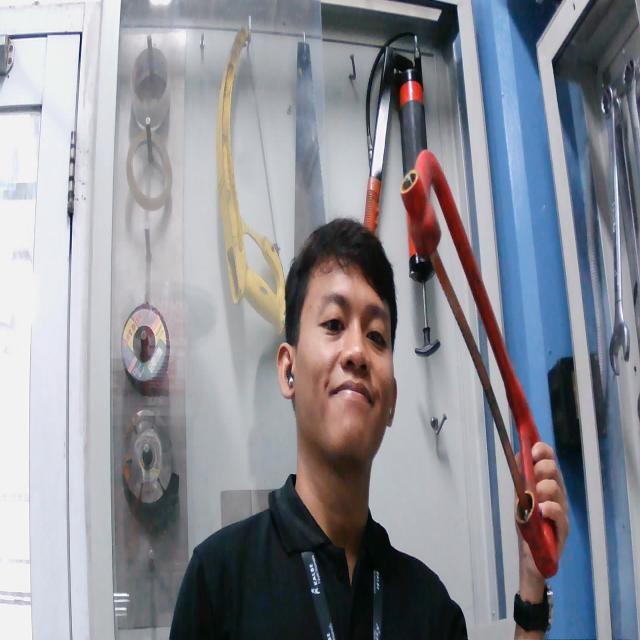gergaji_besi: (399, 146, 565, 582)
